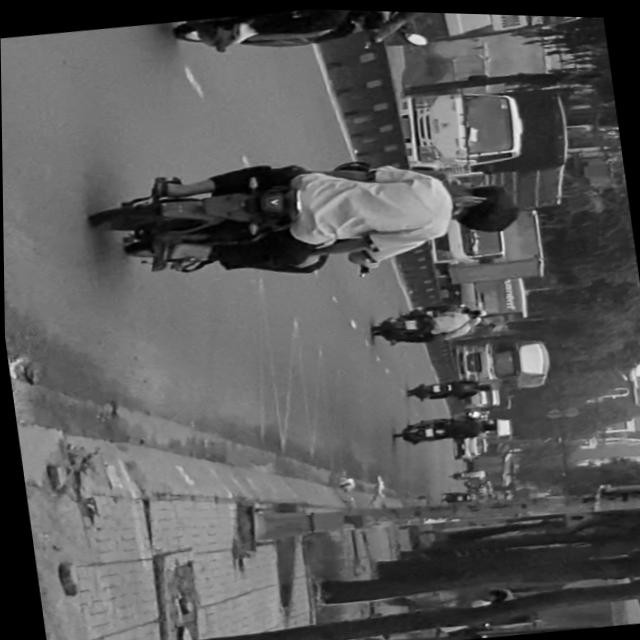licenseplate: (85, 121, 526, 302)
motorcyclist: (450, 184, 520, 233)
